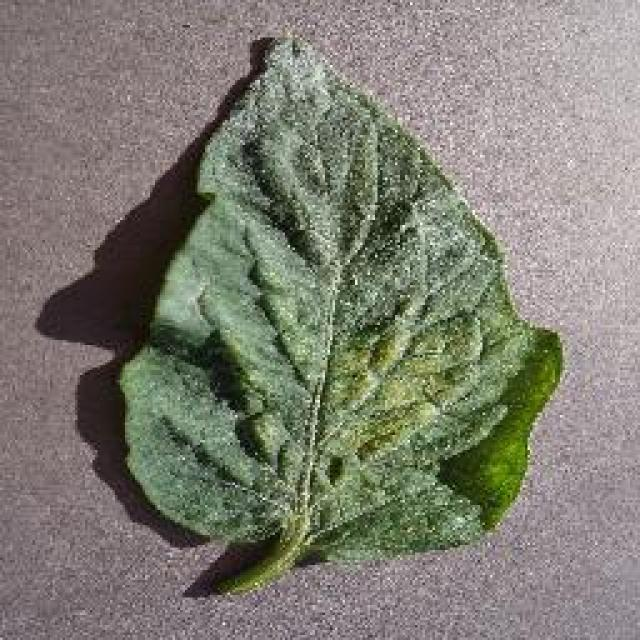Tomato spider mites leaf: (114, 33, 564, 557)
